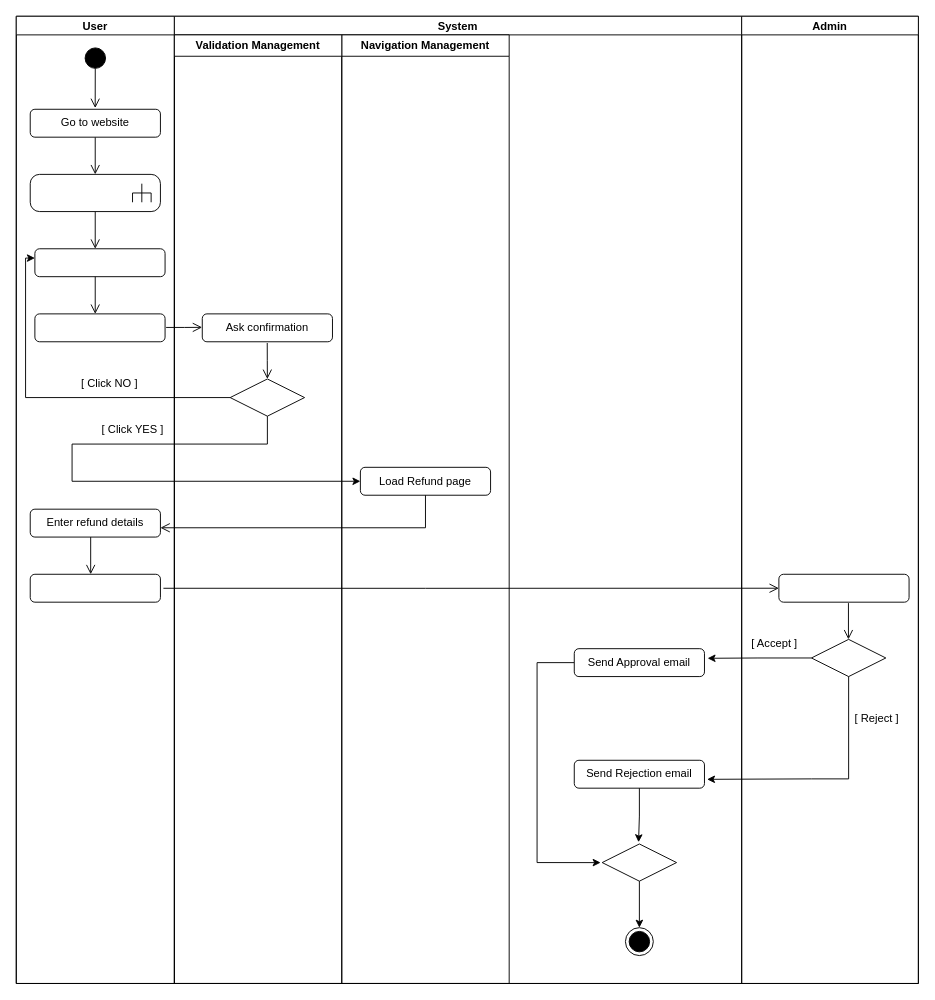
The diagram is 935 pixels wide and 1000 high, and some of its shapes have lost their labels. The shapes that lost their labels are listed below. From the top down, each one's centre as x and y in pixels, then its label:
At (94,192): "User log in".
At (99,262): "Check user profile".
At (99,327): "Cancel a service".
At (94,587): "Submit details".
At (843,587): "Authorize cancelation & refund".
